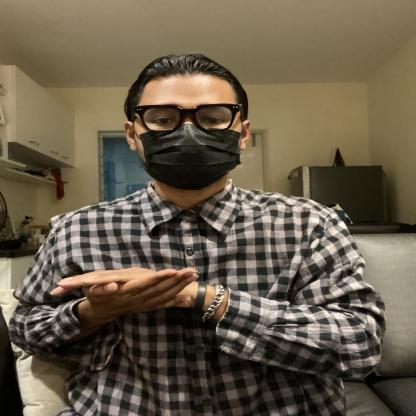Love: (24, 240, 262, 336)
